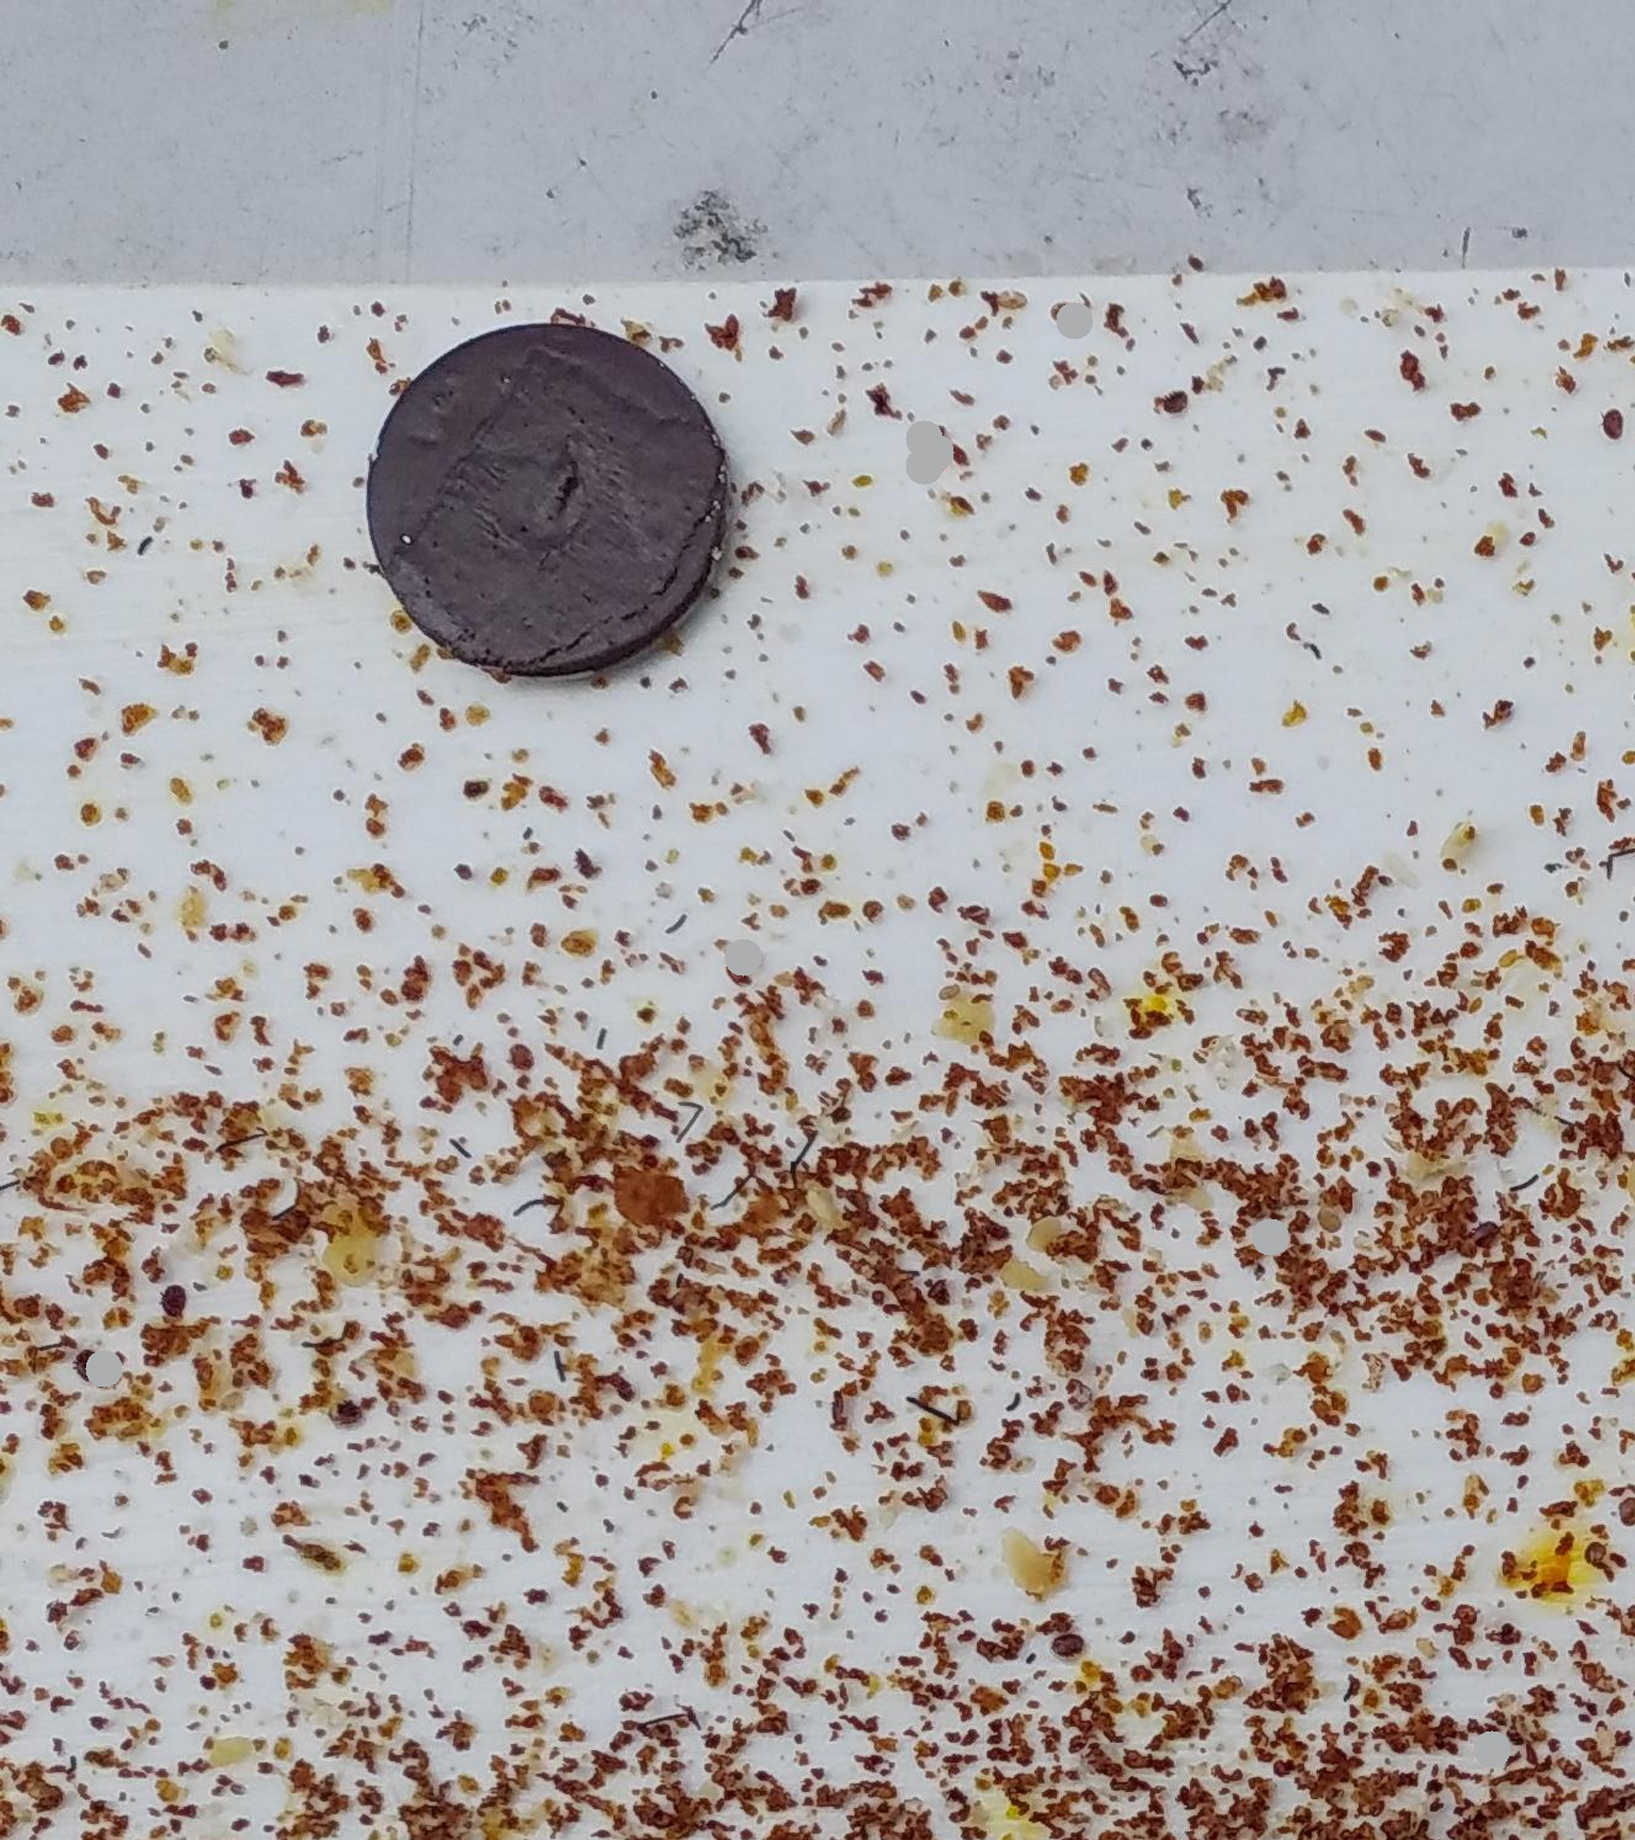Varroa: (1465, 1210, 1506, 1251), (930, 417, 958, 450), (331, 1395, 360, 1423), (505, 1046, 533, 1075), (1594, 409, 1622, 436), (1057, 1633, 1083, 1660), (163, 1289, 189, 1315), (1163, 387, 1188, 409), (1056, 301, 1075, 316), (79, 1352, 98, 1367)
